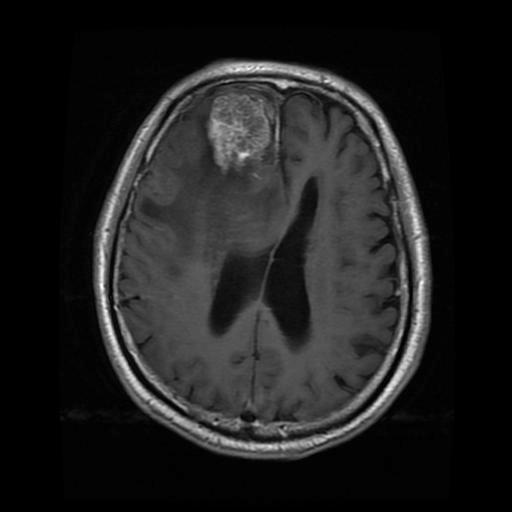Tumour-Pituitary: (201, 77, 286, 188)
